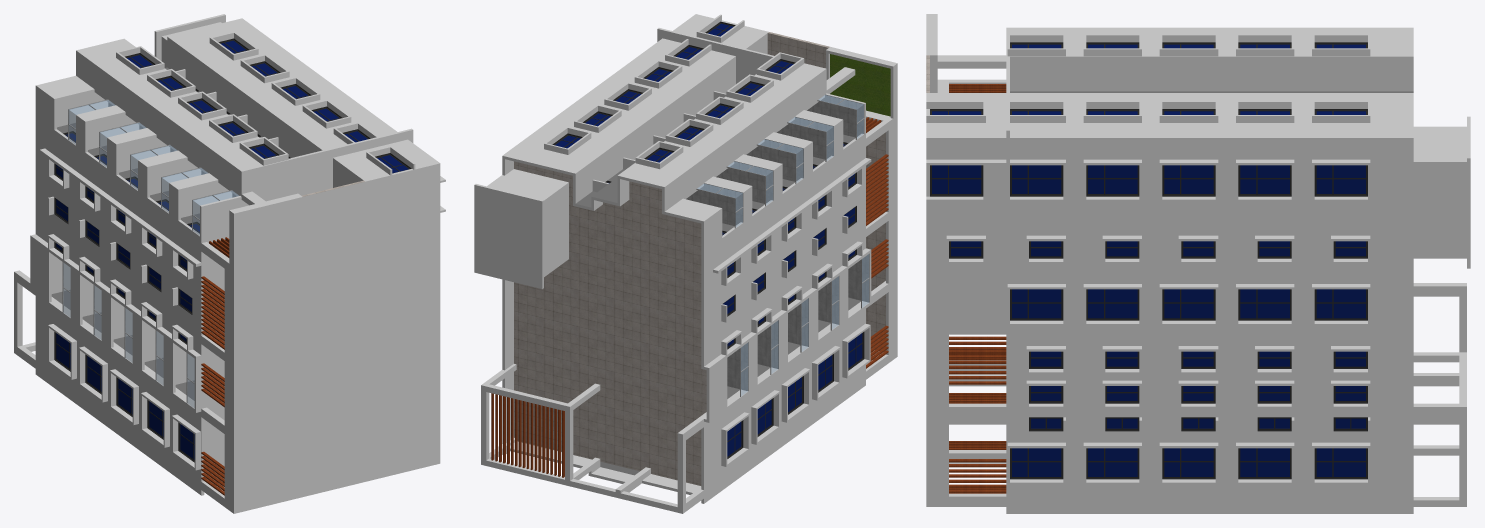
Rendered from Comfort2.fbx.
3 views of the same model, side by side, from view 1: azimuth 30°, elevation 25°; view 2: azimuth 150°, elevation 25°; view 3: azimuth 270°, elevation 25° (orthographic). The views are drawn at different scales.
Visible parts, largest first — view 1: GROUND FLOOR_1, WALL, BALCONY, WINDOW, ROOF_1, LOUVER, FLOOR; view 2: ROOF_1, WALL, BALCONY, GROUND FLOOR_1, LOUVER, WINDOW; view 3: WALL, WINDOW, GROUND FLOOR_1, ROOF_1, LOUVER, GROUND FLOOR_2.
Part boxes in pixels (x1,y1,x2,y2): GROUND FLOOR_1: (201, 128, 445, 513); WALL: (39, 25, 396, 495); BALCONY: (45, 82, 262, 409); WINDOW: (54, 38, 370, 462); ROOF_1: (30, 14, 250, 380); LOUVER: (14, 237, 229, 495); FLOOR: (204, 163, 313, 483); ROOF_1: (474, 149, 718, 503); WALL: (511, 38, 871, 496); BALCONY: (674, 93, 871, 396); GROUND FLOOR_1: (657, 14, 897, 379); LOUVER: (481, 117, 888, 513); WINDOW: (552, 45, 864, 458); WALL: (1006, 27, 1390, 513); WINDOW: (1010, 42, 1367, 479); GROUND FLOOR_1: (926, 14, 1009, 506); ROOF_1: (1390, 27, 1470, 513); LOUVER: (949, 84, 1466, 506); GROUND FLOOR_2: (930, 109, 983, 258).
Size of the model in its own units: 1234 by 1737 by 2179.
